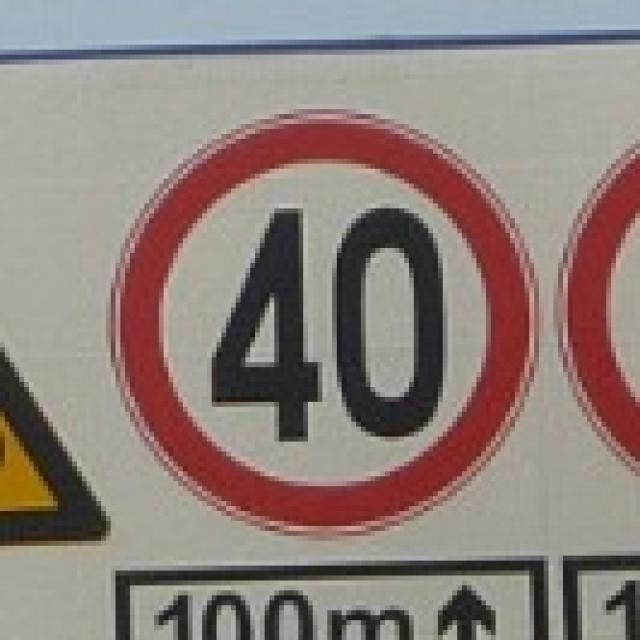Speed Limit -40-: (210, 205, 444, 445)
